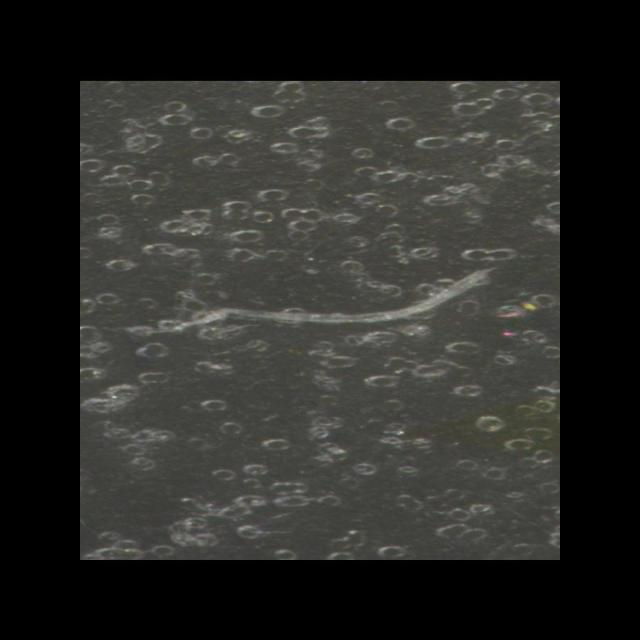Fibre: (107, 255, 523, 348)
